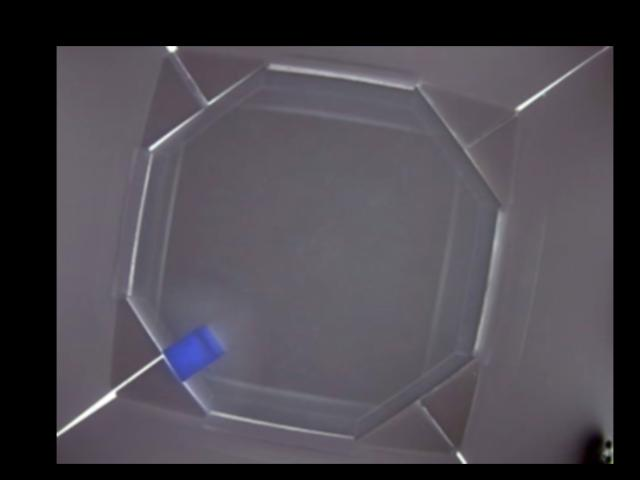Potato: (164, 324, 221, 377)
